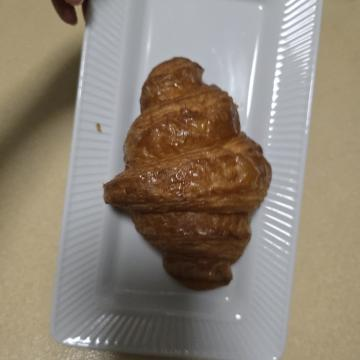croissant: (49, 73, 300, 267)
